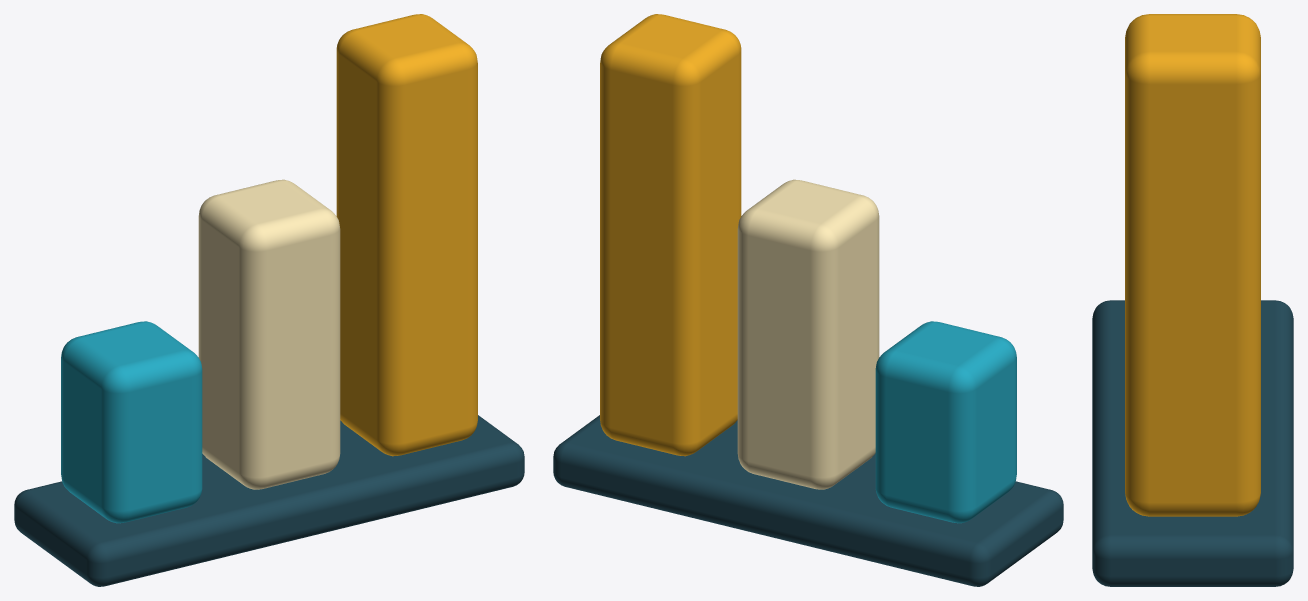
Rendered from analytics.glb.
3 renders of one model, left to right at view 1: azimuth 30°, elevation 25°; view 2: azimuth 150°, elevation 25°; view 3: azimuth 270°, elevation 25°, orthographic. The views are drawn at different scales.
Parts seen in each view (by area): view 1: analytics_bar_2_309, analytics_bar_1_307, analytics, analytics_bar_0_305; view 2: analytics_bar_2_309, analytics_bar_1_307, analytics, analytics_bar_0_305; view 3: analytics_bar_2_309, analytics.
Part boxes in pixels (x1=…): analytics_bar_2_309: x1=336, y1=14, x2=477, y2=456; analytics_bar_1_307: x1=198, y1=179, x2=340, y2=489; analytics: x1=14, y1=415, x2=524, y2=586; analytics_bar_0_305: x1=61, y1=321, x2=202, y2=523; analytics_bar_2_309: x1=600, y1=14, x2=741, y2=456; analytics_bar_1_307: x1=737, y1=179, x2=879, y2=489; analytics: x1=553, y1=415, x2=1063, y2=586; analytics_bar_0_305: x1=875, y1=321, x2=1016, y2=523; analytics_bar_2_309: x1=1125, y1=14, x2=1260, y2=516; analytics: x1=1092, y1=300, x2=1293, y2=586.
Size of the model in its own units: 1.9 by 1.83 by 0.65.
